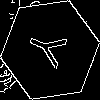Y: (25, 25, 76, 74)
